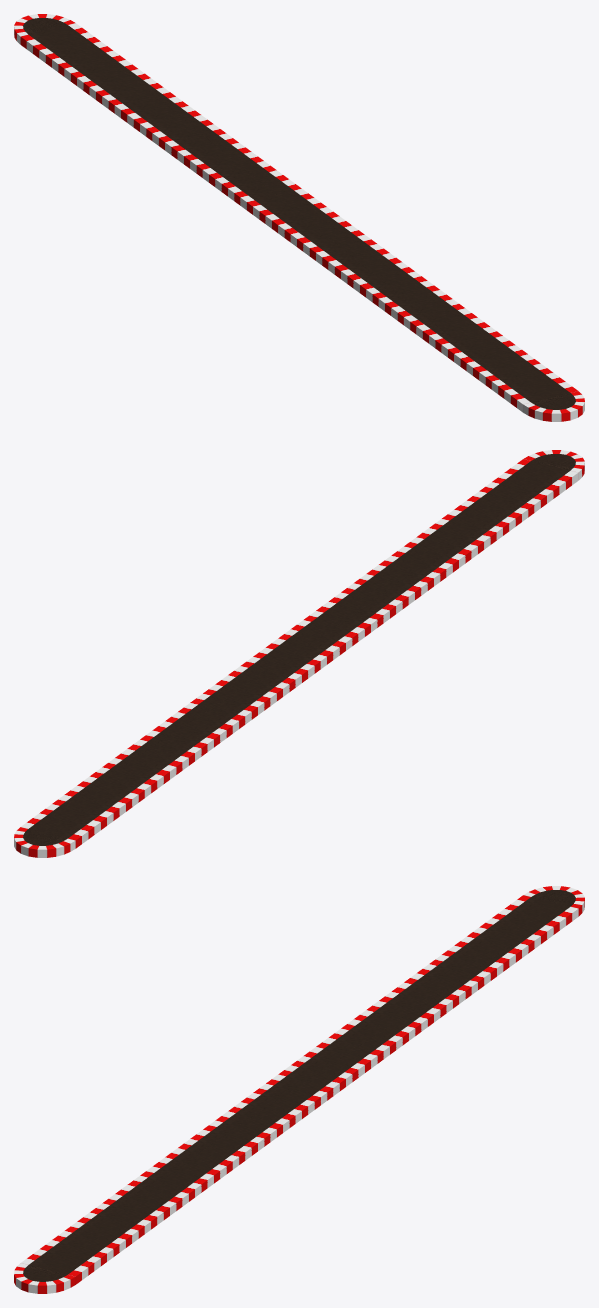
File: rao ngan cach.fbx
The picture shows the model from 3 angles, top to bottom: view 1: azimuth 30°, elevation 25°; view 2: azimuth 150°, elevation 25°; view 3: azimuth 330°, elevation 25°; orthographic projection.
Parts seen in each view (by area): view 1: Cube.002; view 2: Cube.002; view 3: Cube.002.
Boxes of the visible parts, x1=… form: Cube.002: x1=14, y1=14, x2=584, y2=421; Cube.002: x1=14, y1=450, x2=584, y2=857; Cube.002: x1=14, y1=886, x2=584, y2=1293.
Bounding box in the file's own units: 1400 × 201 × 23759.
2 materials, 2 textured.
